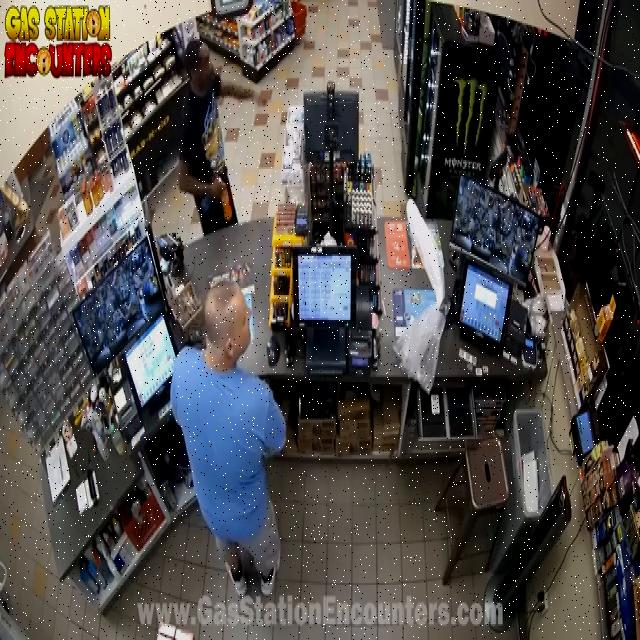article: (221, 190, 232, 220)
person: (171, 283, 285, 594), (179, 41, 259, 235)
